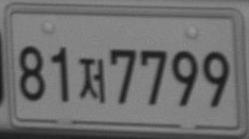1: (49, 46, 73, 102)
7: (140, 49, 167, 105), (110, 49, 136, 104)
8: (19, 45, 45, 100)
9: (202, 50, 229, 106), (171, 50, 197, 105)
저: (78, 57, 105, 103)
